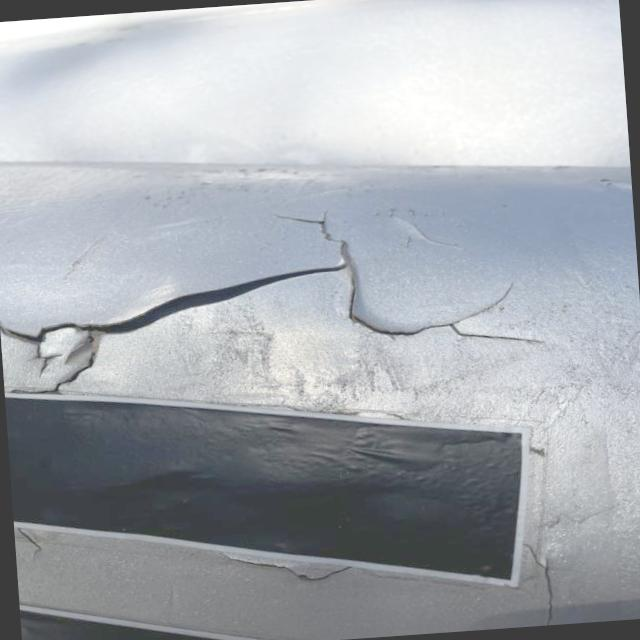crack: (0, 263, 355, 360), (356, 269, 570, 366), (274, 204, 352, 267)
